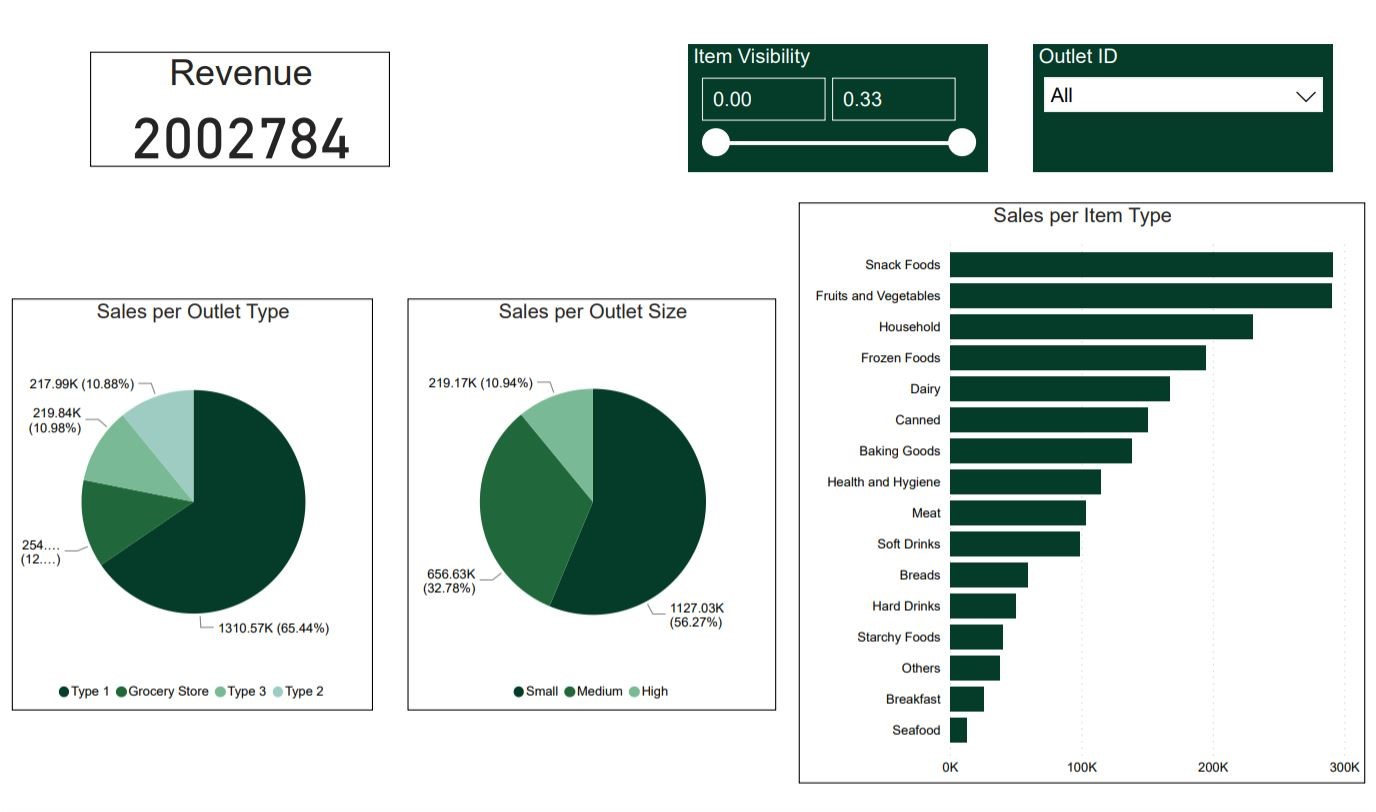

This screenshot's page, from the dashboard's own definition file:
{"tool":"powerbi","page":{"name":"Page 1","canvas":[1280,720],"ordinal":0},"visuals":[{"type":"card","title":"Revenue","fields":{"Values":["Sum(combined_after.Revenue)"]},"box":[83.5,29.8,279,107.4],"z":3},{"type":"barChart","title":"Sales per Item Type","fields":{"Y":["Sum(combined_after.Item_MRP)"],"Category":["combined_after.Item_Type"]},"box":[742.9,170.1,526.6,540],"z":4},{"type":"slicer","title":"Item Visibility","fields":{"Values":["combined_after.Item_Visibility"]},"box":[640,23.9,279,119.3],"z":5},{"type":"slicer","title":"Outlet ID","fields":{"Values":["combined_after.Outlet_Identifier"]},"box":[960.7,23.9,279,119.3],"z":6},{"type":"pieChart","title":"Sales per Outlet Size","fields":{"Category":["combined_after.Outlet_Size"],"Y":["Sum(combined_after.Item_MRP)"]},"box":[378.9,259.6,343.1,383.4],"z":7},{"type":"pieChart","title":"Sales per Outlet Type","fields":{"Category":["combined_after.Outlet_Type"],"Y":["Sum(combined_after.Item_MRP)"]},"box":[10.4,259.6,335.7,383.4],"z":8}]}

Visuals, with their boxes in screenshot pixels (x1, y1, x2, y2):
"Revenue" card: box=[96, 53, 391, 167]
"Sales per Item Type" barChart: box=[795, 202, 1353, 774]
"Item Visibility" slicer: box=[686, 47, 981, 173]
"Outlet ID" slicer: box=[1026, 47, 1321, 173]
"Sales per Outlet Size" pieChart: box=[409, 297, 773, 703]
"Sales per Outlet Type" pieChart: box=[18, 297, 374, 703]
